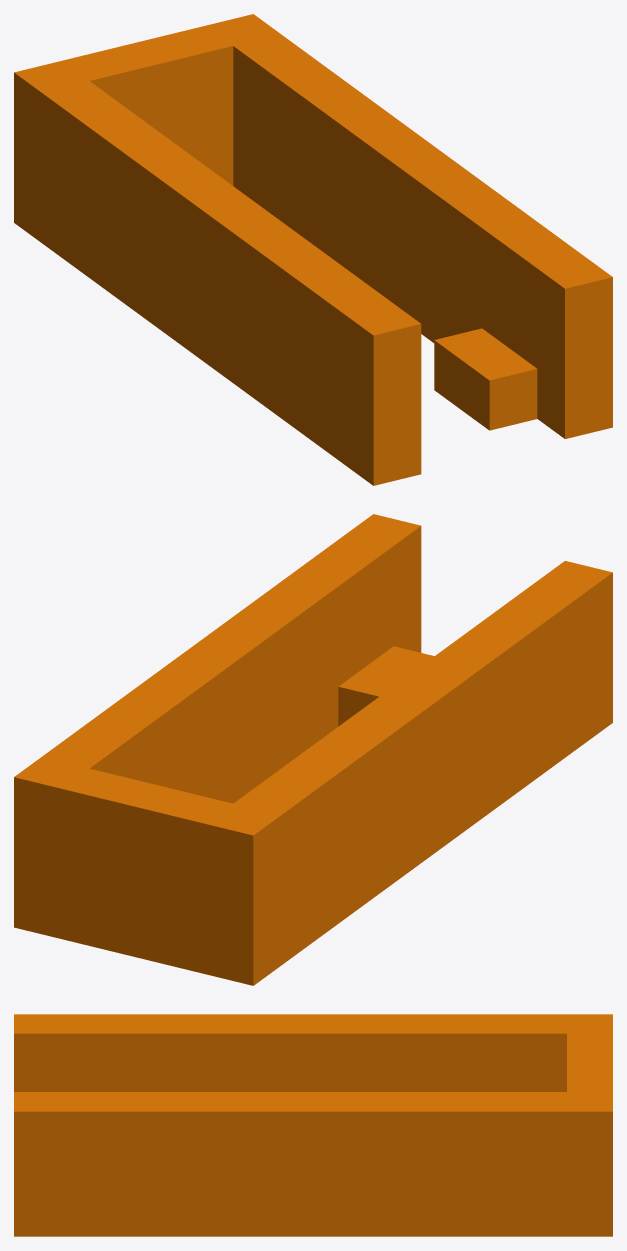
The model's file is scene_0_walls_collisions.glb.
3 views of the same model, one above another, from view 1: azimuth 30°, elevation 25°; view 2: azimuth 150°, elevation 25°; view 3: azimuth 270°, elevation 25° (orthographic). The views are drawn at different scales.
Visible parts, largest first — view 1: walls.003, walls.002, walls, walls.001; view 2: walls.003, walls.002, walls, walls.001; view 3: walls.002, walls.003, walls.
Boxes of the visible parts, x1,y1,x2,y2 form: walls.003: (41, 81, 421, 485); walls.002: (233, 34, 612, 438); walls: (14, 14, 280, 242); walls.001: (434, 328, 537, 430); walls.003: (233, 561, 612, 965); walls.002: (42, 514, 421, 803); walls: (14, 757, 280, 985); walls.001: (338, 646, 434, 726); walls.002: (14, 1092, 566, 1236); walls.003: (14, 1014, 566, 1091); walls: (567, 1014, 612, 1236).
Size of the model in its own units: 10 by 6 by 26.
